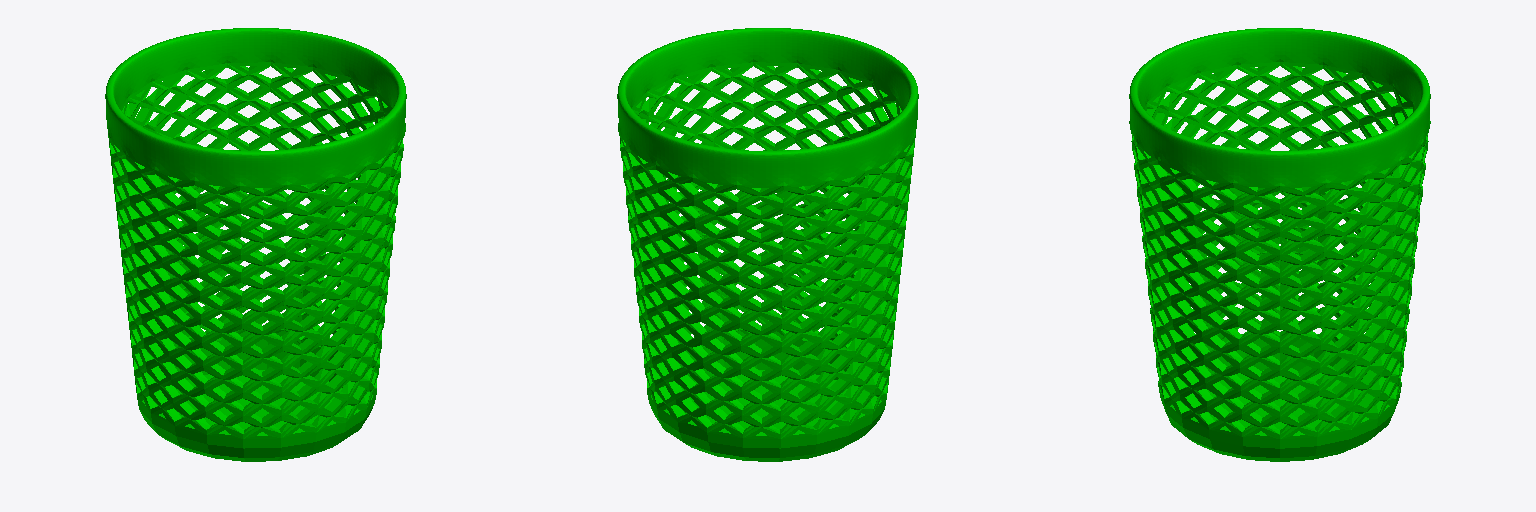
File: uploads_files_4339733_Dustbin.obj
The picture shows the model from 3 angles: view 1: azimuth 30°, elevation 25°; view 2: azimuth 150°, elevation 25°; view 3: azimuth 270°, elevation 25°; orthographic projection.
Parts seen in each view (by area): view 1: pCylinder1_Mesh.001; view 2: pCylinder1_Mesh.001; view 3: pCylinder1_Mesh.001.
Boxes of the visible parts, <box> form: pCylinder1_Mesh.001: <box>105,28,406,461</box>; pCylinder1_Mesh.001: <box>617,28,918,461</box>; pCylinder1_Mesh.001: <box>1129,28,1430,461</box>.
Size of the model in its own units: 2.1 by 2.55 by 2.1.